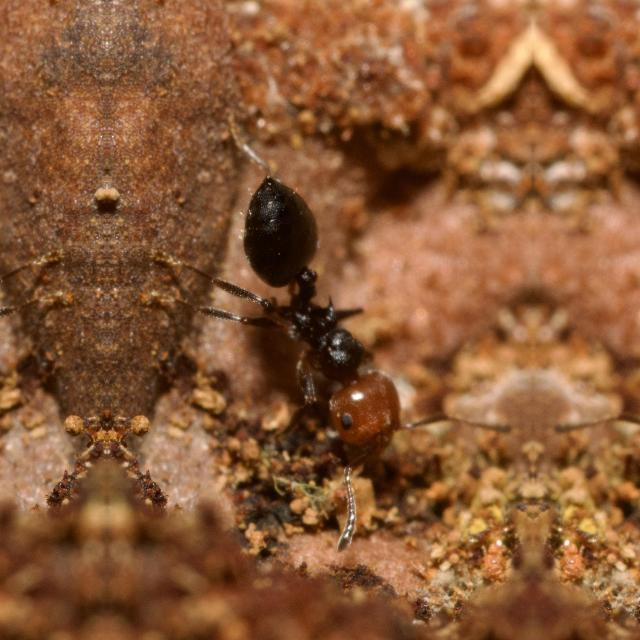Crematogaster: (220, 166, 426, 498)
